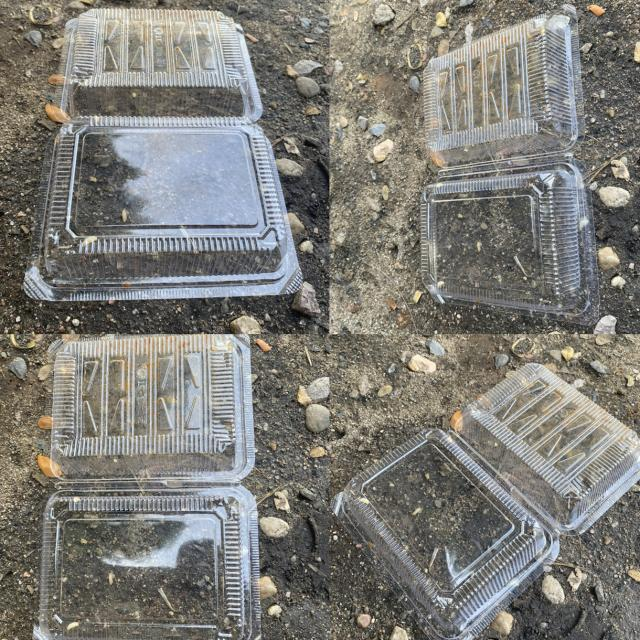plastik: (332, 364, 640, 640), (24, 9, 302, 300), (34, 334, 261, 640), (421, 5, 600, 325)
